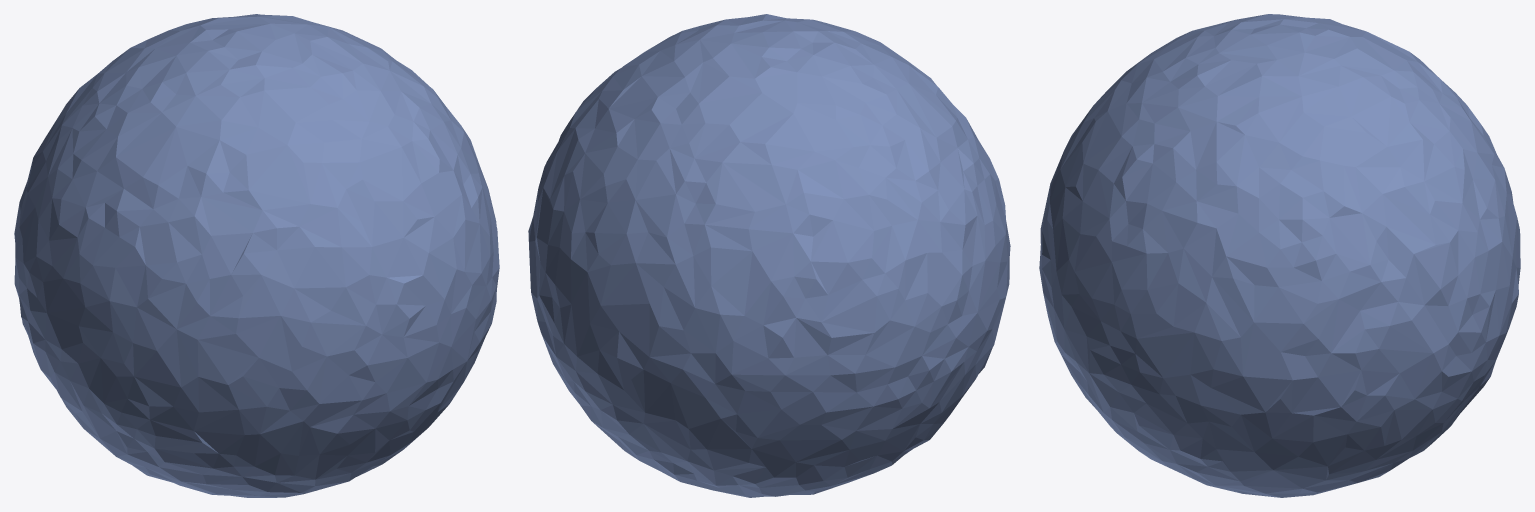
Rendered from Skysphere1.fbx.
3 views of the same model, side by side, from view 1: azimuth 30°, elevation 25°; view 2: azimuth 150°, elevation 25°; view 3: azimuth 270°, elevation 25° (orthographic).
Parts seen in each view (by area): view 1: SkySphere; view 2: SkySphere; view 3: SkySphere.
Boxes of the visible parts, box(x1,y1,x2,y2) form: SkySphere: box(14, 14, 499, 497); SkySphere: box(528, 14, 1010, 497); SkySphere: box(1039, 14, 1520, 497).
Size of the model in its own units: 101 by 101 by 101.
